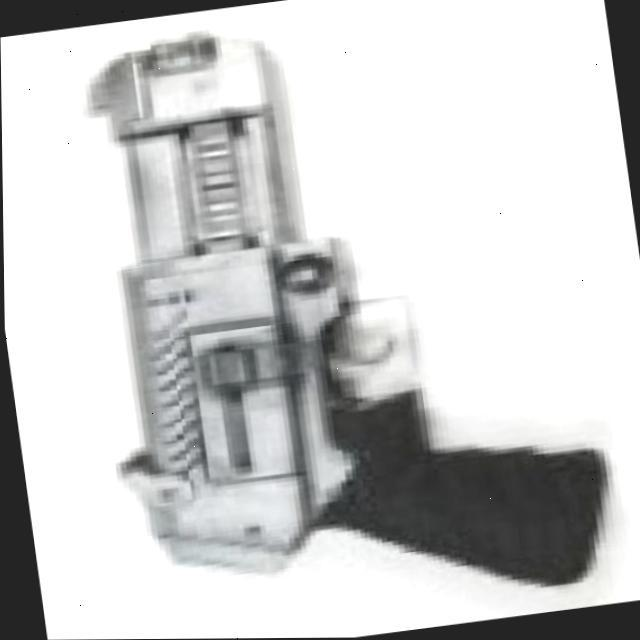gun: (72, 0, 619, 640)
